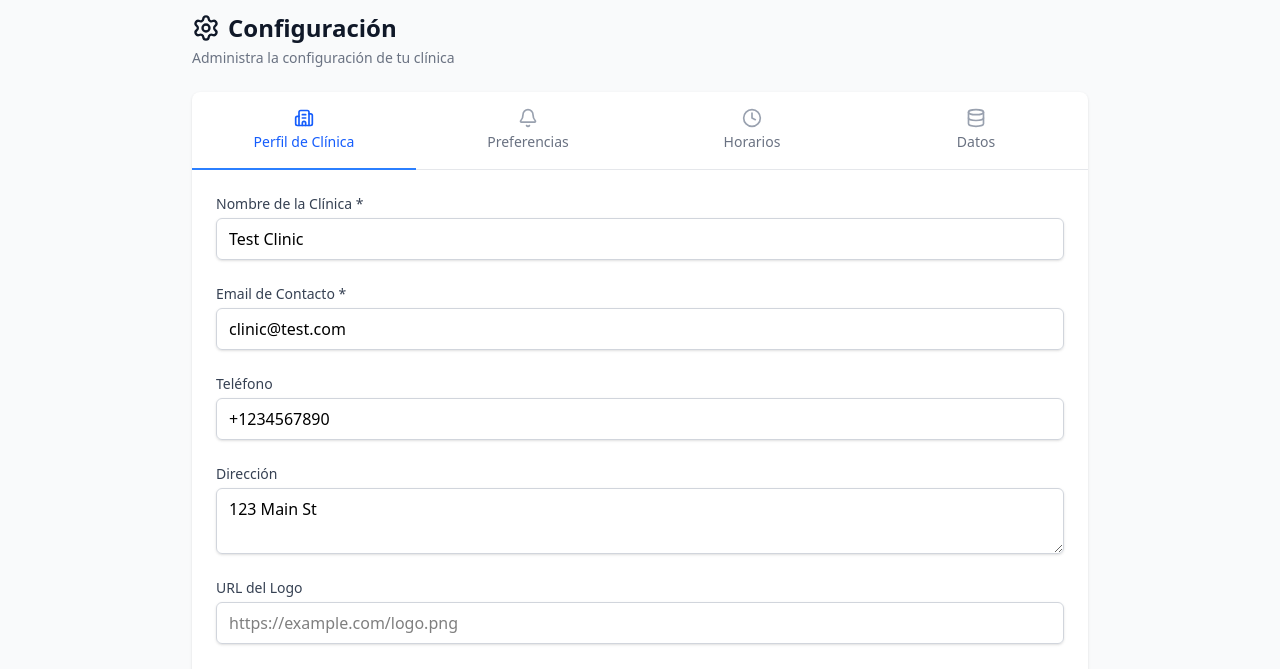
Scenario: SettingsPage › should switch tabs when clicked
# Click on Preferences tab
Click the button "Preferencias" at (528, 131), box [416,92,640,170]
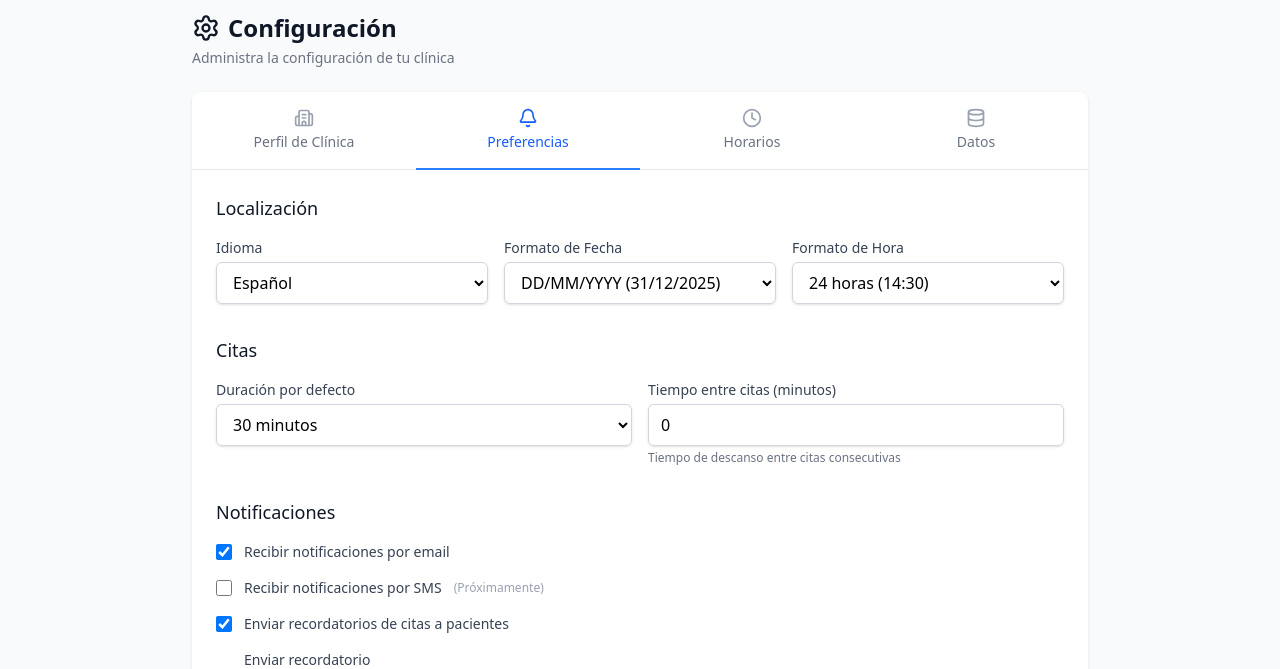
Check: the heading "Localización" is shown, box [216,196,318,220]
# Click on Hours tab
Click the button "Horarios" at (752, 131), box [640,92,864,170]
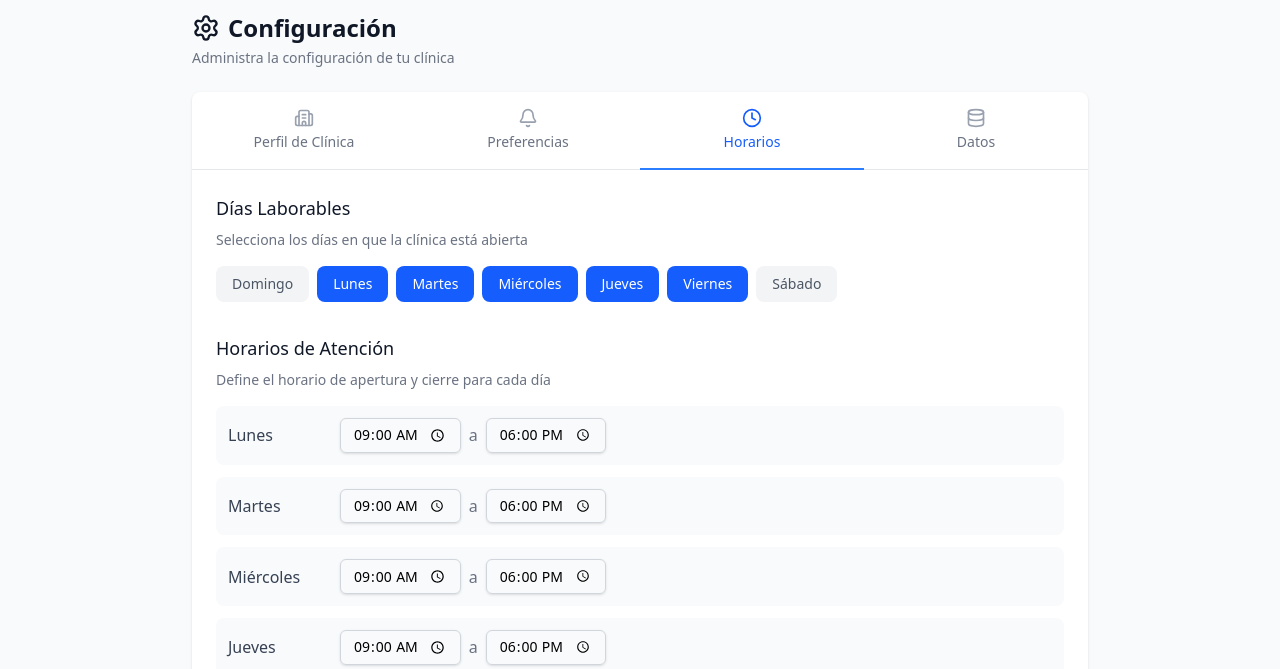
Check: the heading "Días Laborables" is shown, box [216,196,350,220]
